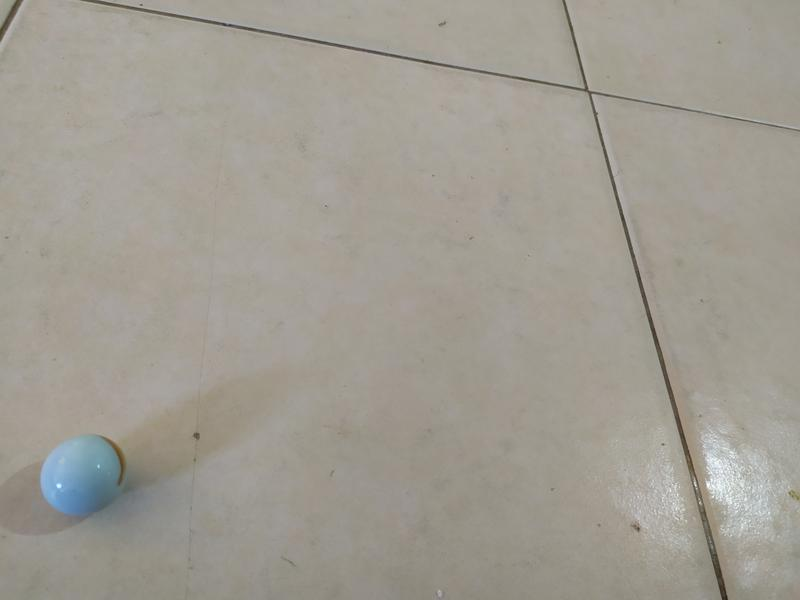Warning: (36, 429, 131, 520)
